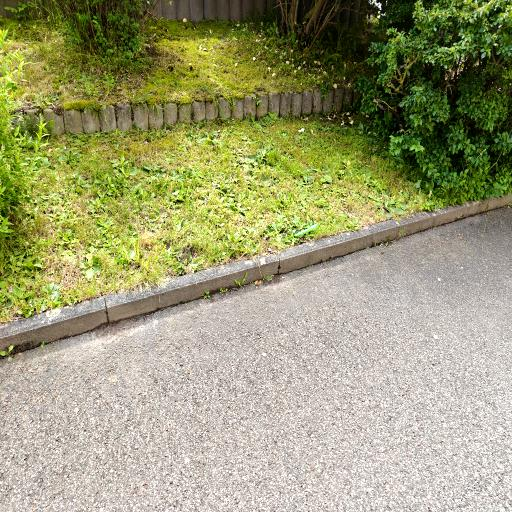Probe-Detection: (295, 224, 318, 237)
